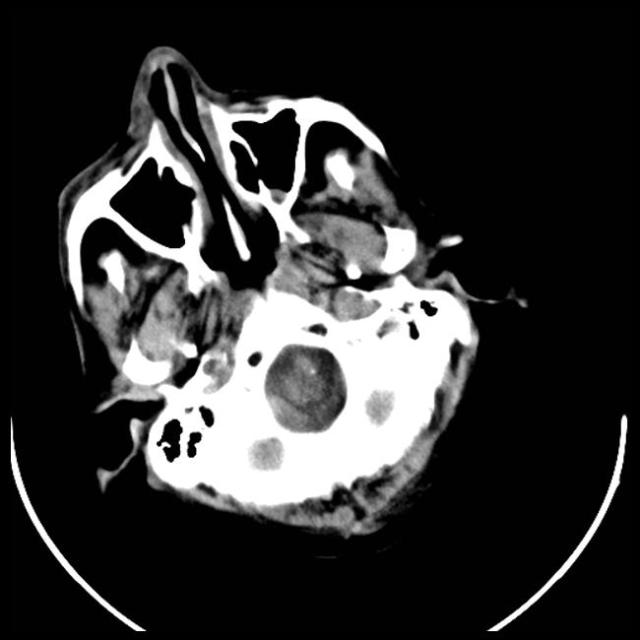lesion: (52, 42, 513, 542)
